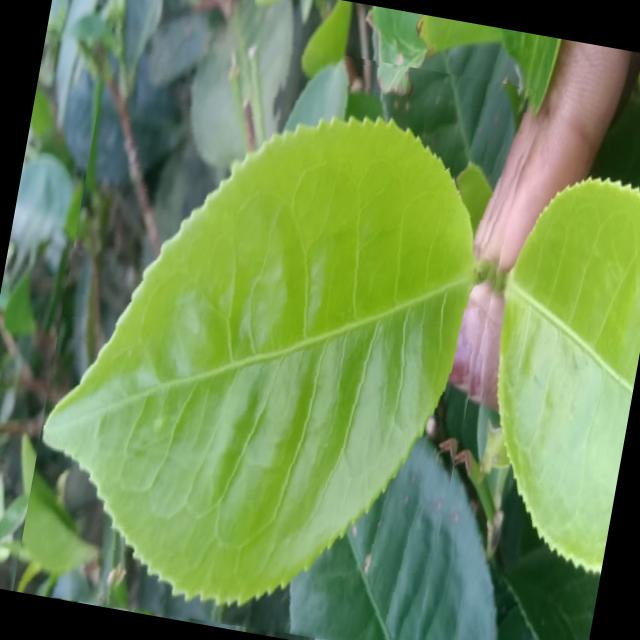Category B 2-4 days: (12, 13, 537, 640)
